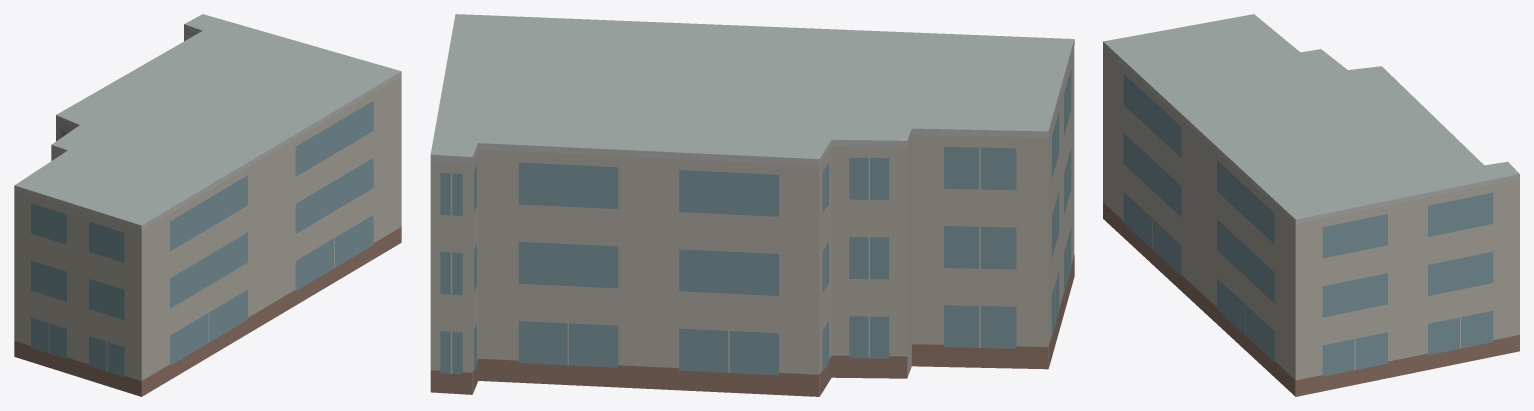
The model's file is survey-upis-32582445.glb.
3 views of the same model, side by side, from view 1: azimuth 30°, elevation 25°; view 2: azimuth 150°, elevation 25°; view 3: azimuth 270°, elevation 25° (orthographic). The views are drawn at different scales.
Parts seen in each view (by area): view 1: survey-upis-32582445.tmp; view 2: survey-upis-32582445.tmp; view 3: survey-upis-32582445.tmp.
Boxes of the visible parts, box(x1,y1,x2,y2) form: survey-upis-32582445.tmp: box(14, 14, 401, 396); survey-upis-32582445.tmp: box(430, 14, 1074, 396); survey-upis-32582445.tmp: box(1103, 14, 1519, 396).
Bounding box in the file's own units: 22.77 × 9.15 × 19.51.
